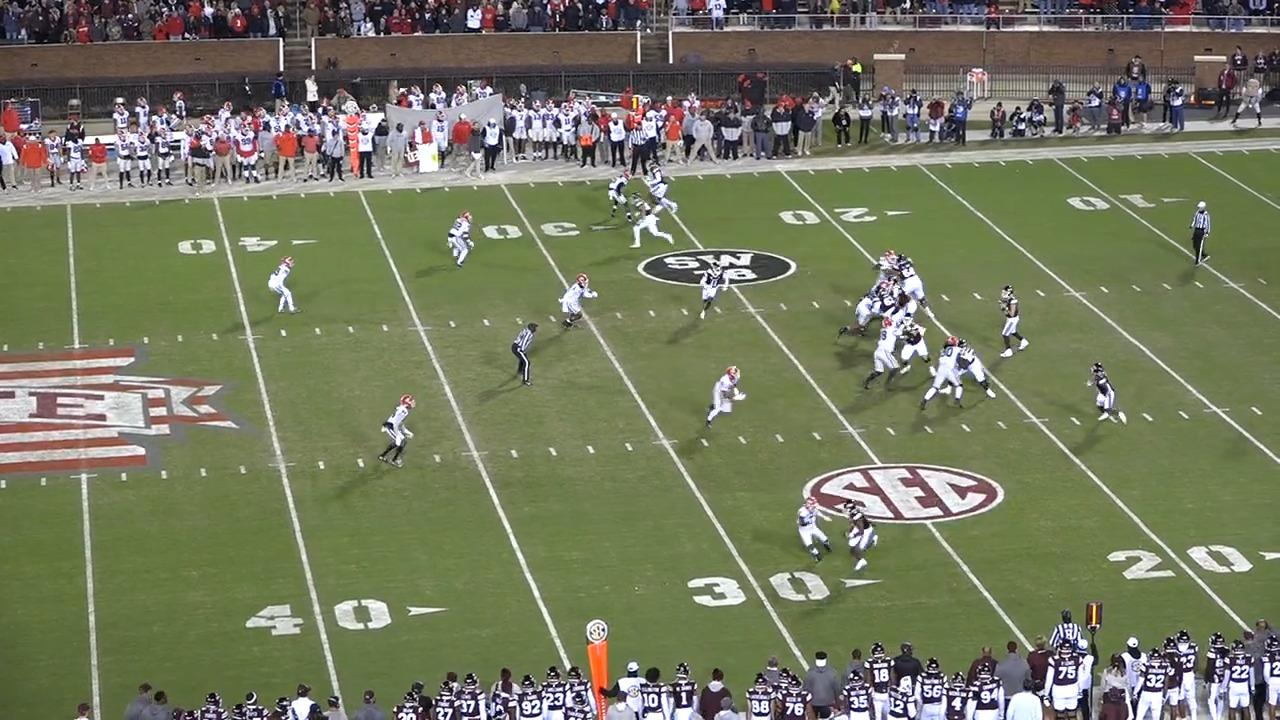defense: (919, 341, 965, 414), (705, 366, 751, 433), (377, 391, 415, 467), (796, 491, 836, 563), (867, 322, 907, 393), (561, 272, 600, 332), (840, 289, 884, 340), (266, 254, 298, 317), (446, 210, 477, 270), (607, 170, 631, 222), (872, 250, 903, 286)
oline: (952, 339, 994, 404), (897, 318, 935, 378), (890, 257, 923, 320), (872, 286, 905, 337), (883, 276, 917, 318)
qb: (996, 286, 1029, 360)
ref: (506, 321, 536, 391), (1191, 198, 1218, 264), (1052, 606, 1086, 656), (633, 118, 658, 177)
skill: (846, 496, 882, 573), (627, 192, 673, 249), (1089, 358, 1128, 425), (696, 263, 730, 325), (647, 163, 681, 216)
